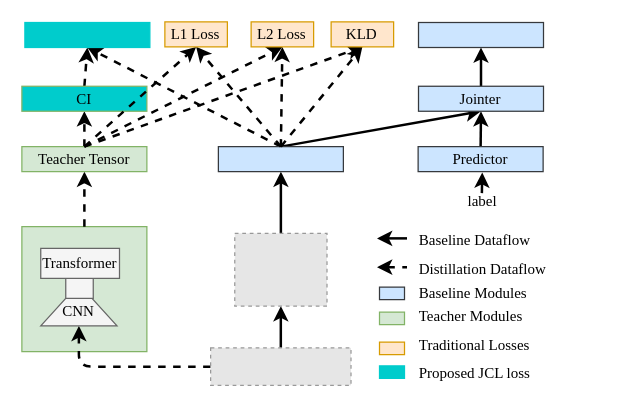
Image size: 620x408. Some labels were removed from this diagram. Grey dashed boxes stand in for pictures. The box of each missing label's shape, as (x1, y1, x2, y2) in pixels:
Encoder: (217, 145, 343, 172)
Hubert: (21, 225, 147, 352)
JCL: (24, 21, 150, 48)
RNN-T Loss: (417, 21, 544, 48)
